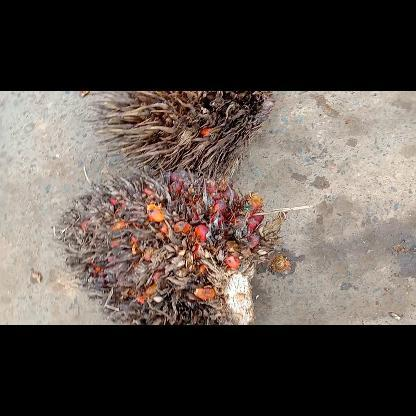Janjang kosong: (86, 90, 274, 180)
Terlalu masak: (54, 168, 284, 324)
